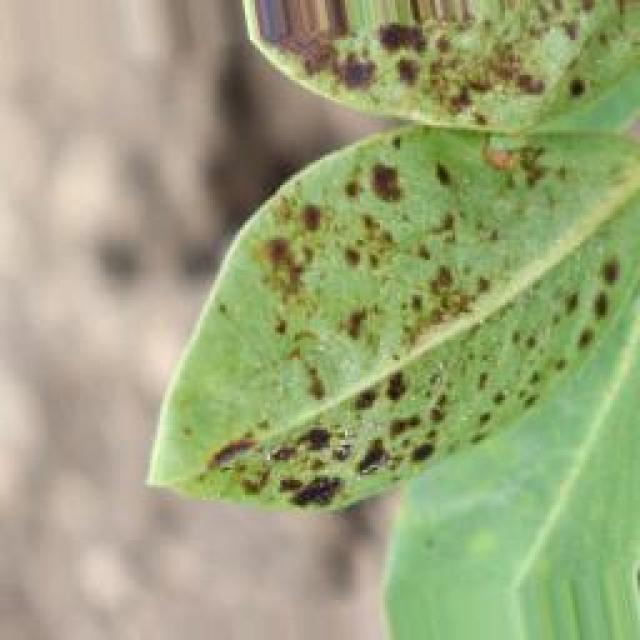Whitefly: (153, 0, 640, 522)
